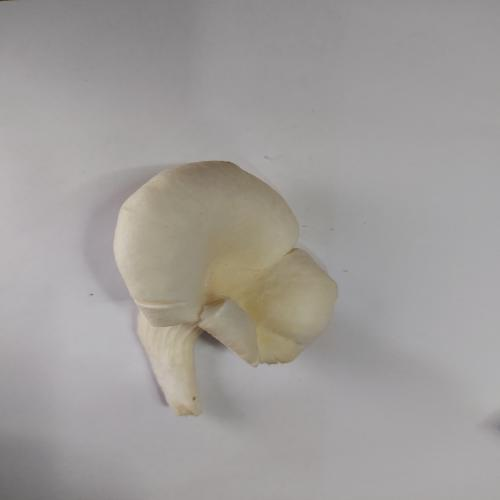Oyster Mushroom: (111, 159, 339, 417)
